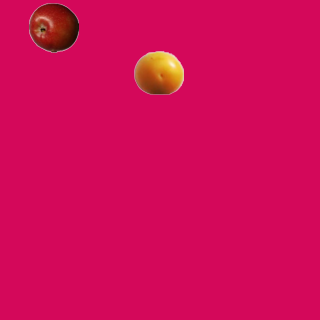Apple Braeburn: (28, 2, 78, 52)
Cherry Wax Yellow: (133, 47, 183, 97)
